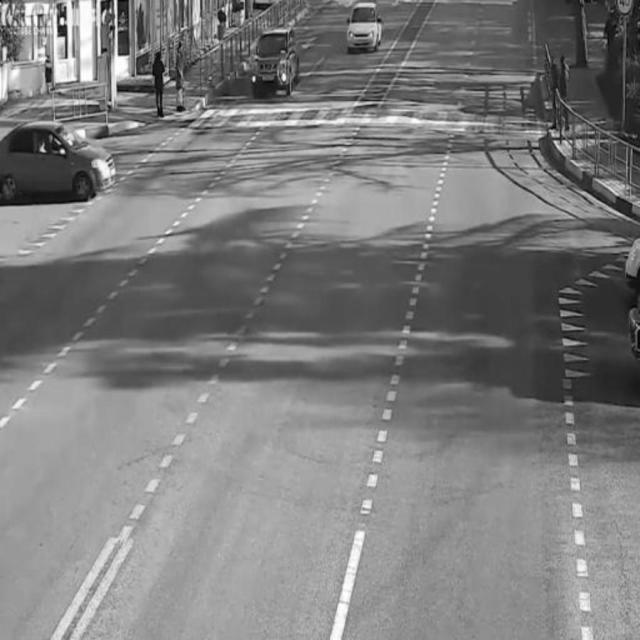person: (172, 32, 189, 120), (150, 45, 170, 113), (558, 50, 574, 130), (547, 50, 562, 133)
vehicle: (2, 125, 123, 201), (251, 29, 302, 93), (347, 2, 383, 53), (624, 236, 640, 297)
